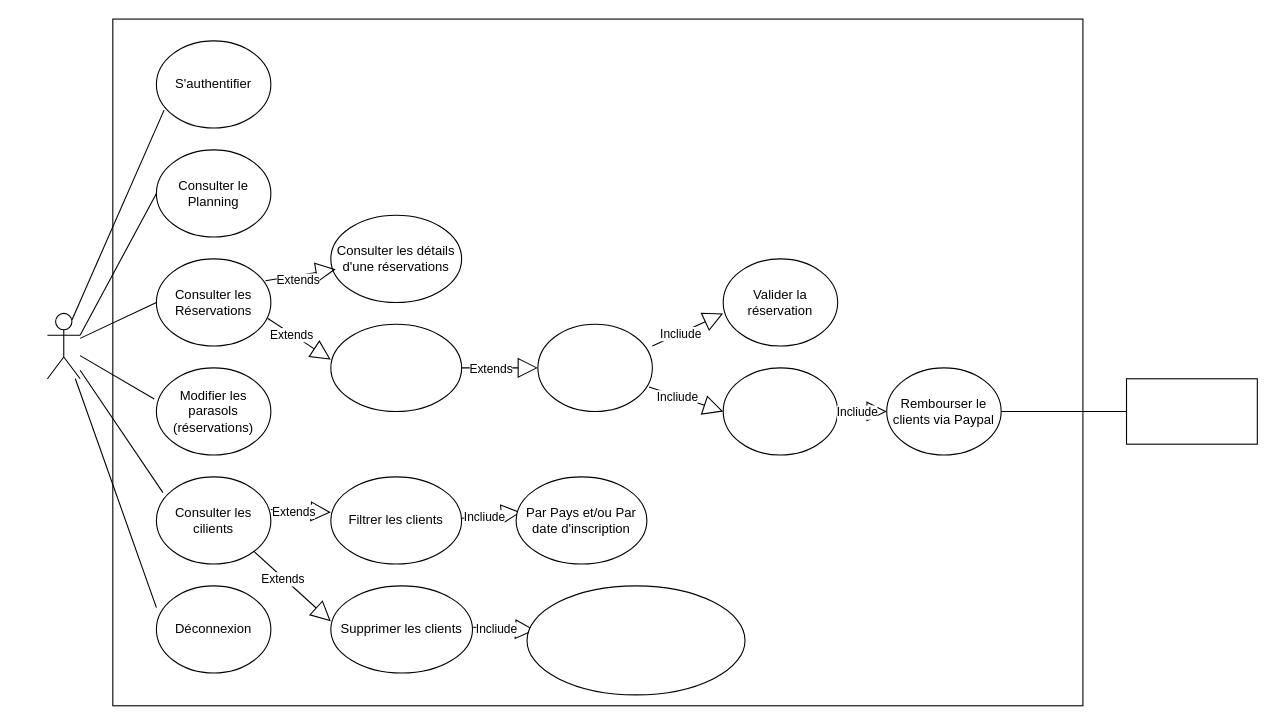
Image size: 1276x725. Some labels were removed from this diagram. The centre of each missing label's shape, as x and y in pixels:
"Concessionaire" goes at point 63,345.
"Consulter les réservations à traiter" goes at point 396,367.
"Paypal" goes at point 1191,411.
"Refuser la réservation" goes at point 780,411.
"Traiter une réservation" goes at point 594,367.
"Uniquement si aucune de ses réservations n’a déjà été validée" goes at point 635,640.
